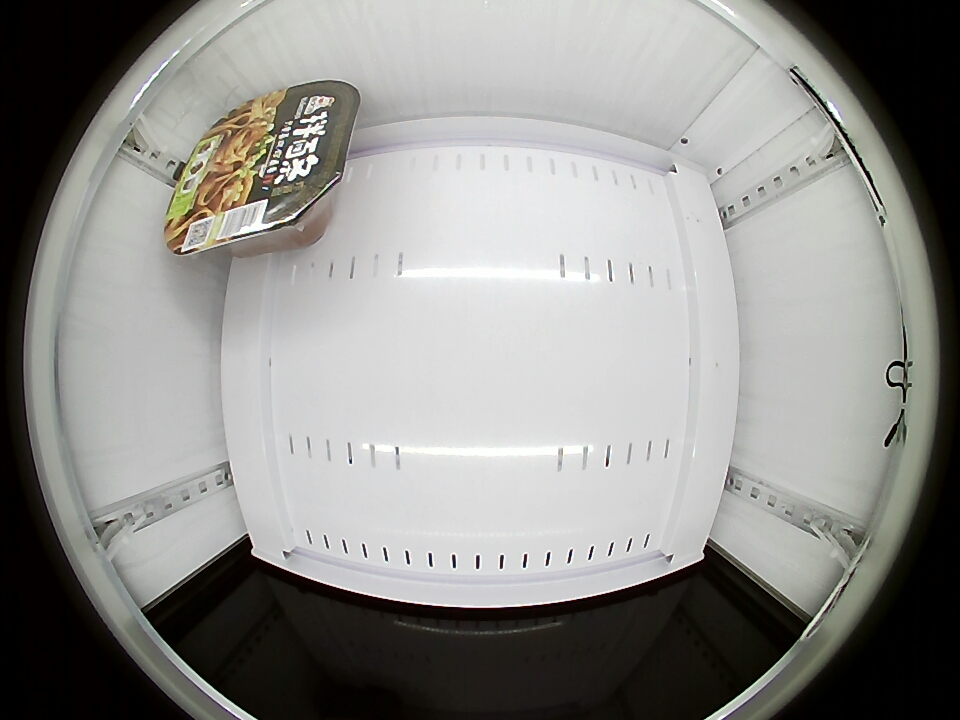gudasao: (163, 80, 361, 258)
